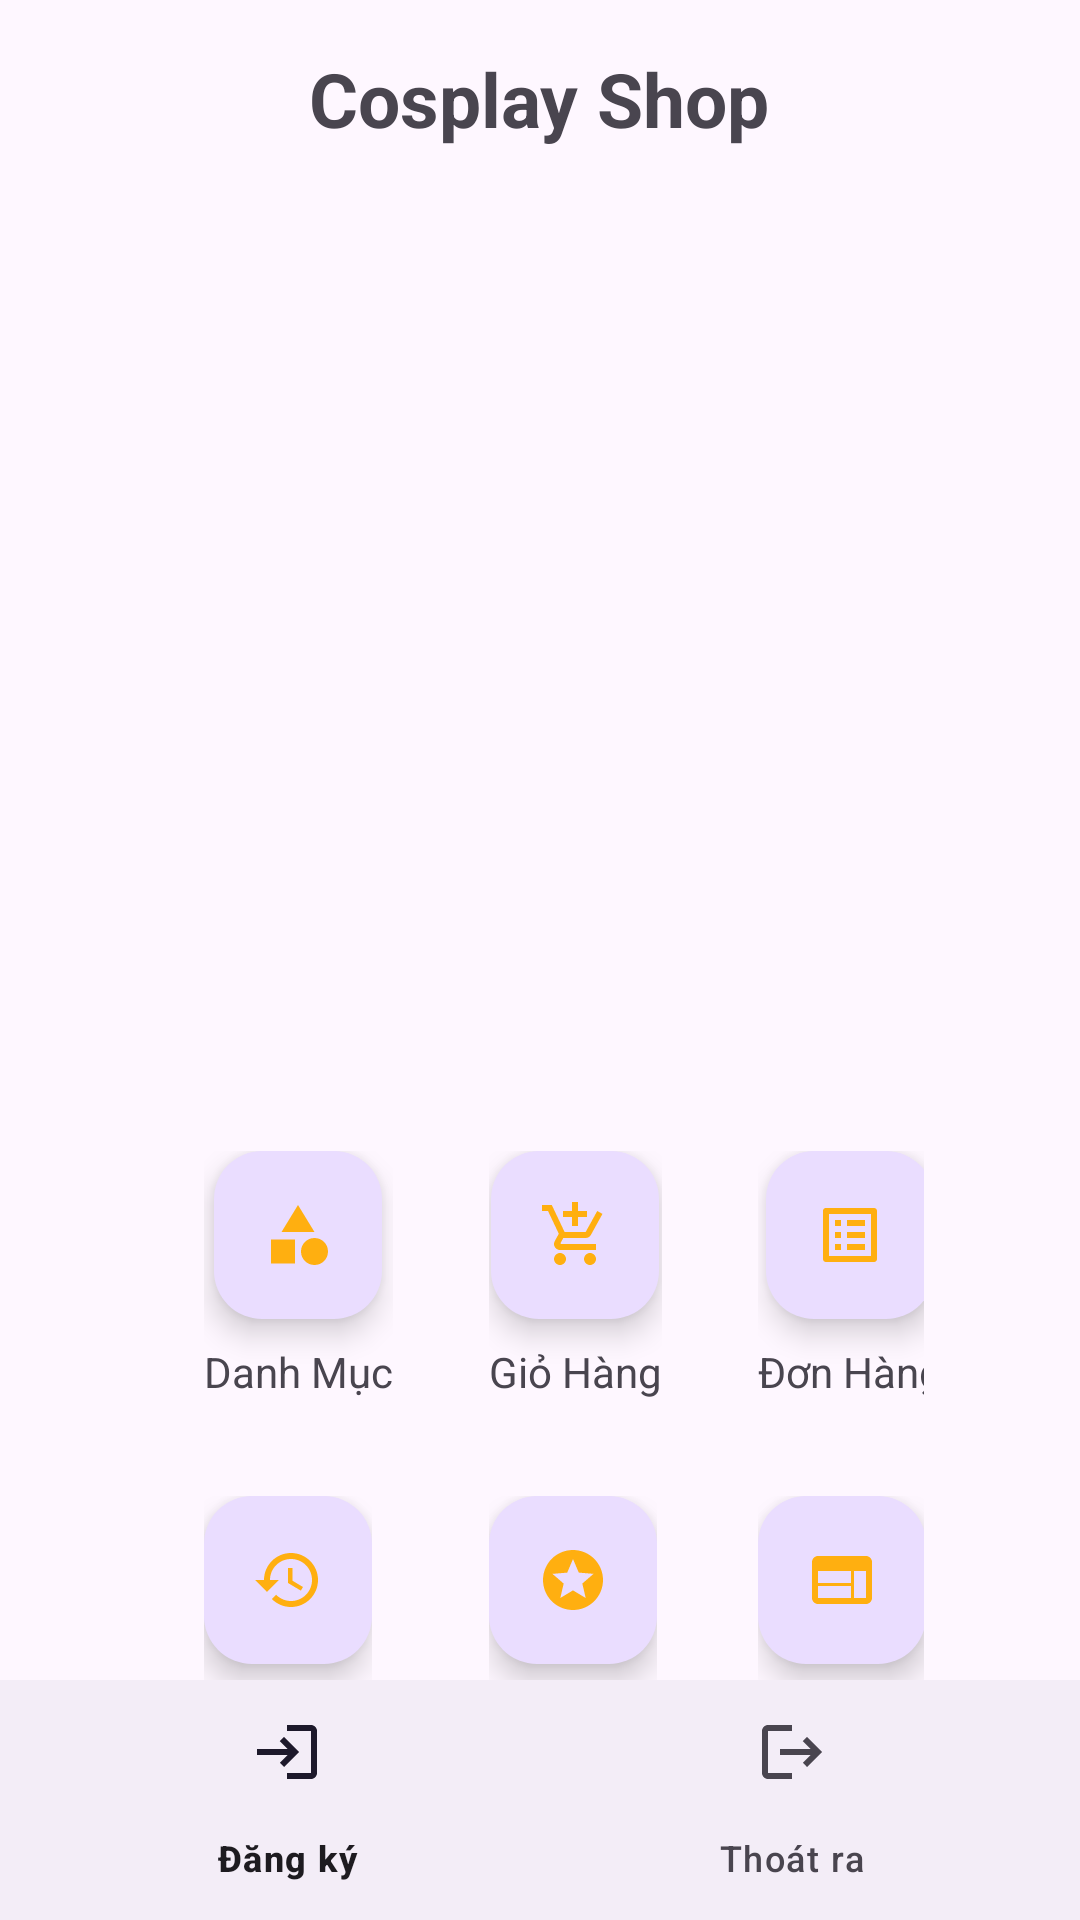

Screen size 1080×1920. Icon name, then its center in pixels as [x,y]:
content: [841,1580]
history: [288,1580]
list: [845,1235]
stars: [573,1580]
